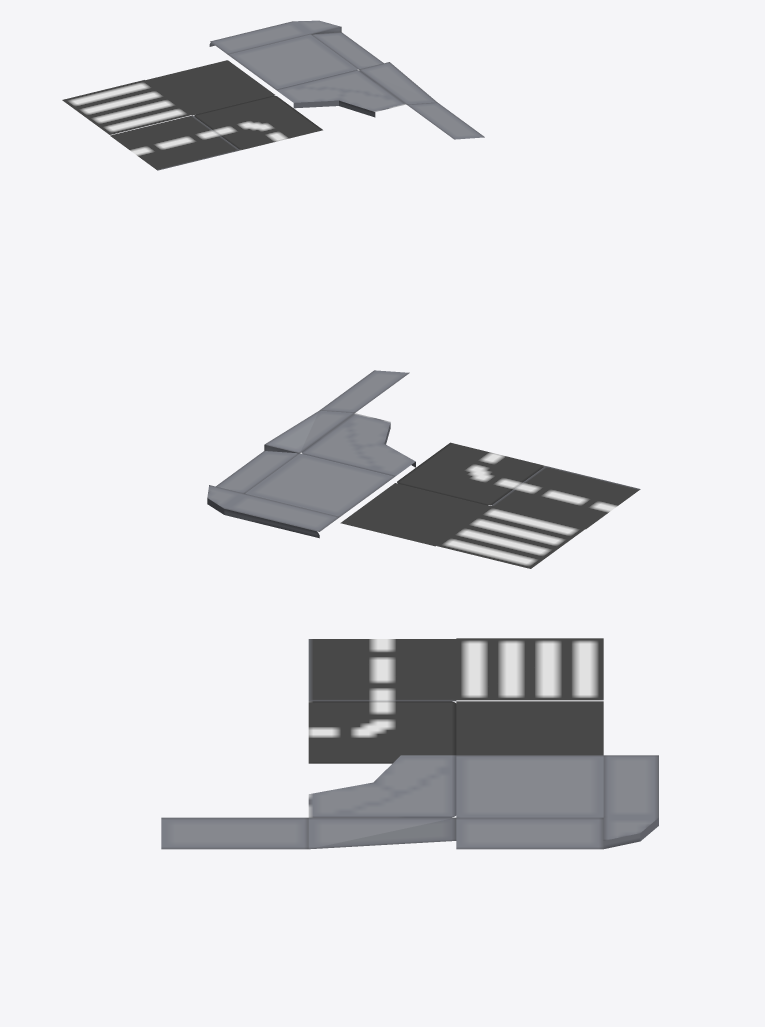
File: Street_Tiles.fbx
3 renders of one model, top to bottom at view 1: azimuth 30°, elevation 25°; view 2: azimuth 150°, elevation 25°; view 3: azimuth 270°, elevation 25°, orthographic. The views are drawn at different scales.
Parts seen in each view (by area): view 1: Sidewalk, Crosswalk, Road.Line, Road.Line.Corner, Road, Curb.Corner.Inner, Curb, Slope.Transition, Curb.Slope.Single, Curb.Slope, Curb.Corner.Outer; view 2: Crosswalk, Sidewalk, Road.Line.Corner, Road, Road.Line, Curb.Corner.Inner, Curb, Slope.Transition, Curb.Slope.Single, Curb.Slope, Curb.Corner.Outer; view 3: Road.Line, Crosswalk, Sidewalk, Road.Line.Corner, Road, Curb.Corner.Inner, Curb.Slope, Curb.Slope.Single, Slope.Transition, Curb, Curb.Corner.Outer.
Boxes of the visible parts, x1,y1,x2,y2 form: Sidewalk: (228, 34, 358, 89); Crosswalk: (62, 80, 192, 134); Road.Line: (110, 115, 240, 170); Road.Line.Corner: (194, 95, 322, 150); Road: (145, 60, 275, 115); Curb.Corner.Inner: (276, 70, 405, 117); Curb: (209, 21, 310, 54); Slope.Transition: (359, 62, 436, 104); Curb.Slope.Single: (311, 27, 383, 69); Curb.Slope: (407, 102, 484, 139); Curb.Corner.Outer: (293, 20, 341, 34); Crosswalk: (436, 505, 585, 568); Sidewalk: (245, 453, 394, 516); Road.Line.Corner: (397, 442, 544, 505); Road: (340, 483, 489, 546); Road.Line: (491, 466, 640, 529); Curb.Corner.Inner: (301, 413, 415, 476); Curb: (224, 493, 339, 538); Slope.Transition: (264, 410, 354, 453); Curb.Slope.Single: (216, 445, 299, 493); Curb.Slope: (319, 370, 409, 412); Curb.Corner.Outer: (207, 485, 244, 514); Road.Line: (308, 639, 456, 701); Crosswalk: (456, 638, 603, 700); Sidewalk: (456, 755, 603, 817); Road.Line.Corner: (308, 701, 456, 763); Road: (456, 701, 603, 755); Curb.Corner.Inner: (308, 755, 456, 817); Curb.Slope: (161, 817, 308, 849); Curb.Slope.Single: (456, 817, 603, 849); Slope.Transition: (308, 817, 456, 849); Curb: (603, 755, 658, 817); Curb.Corner.Outer: (603, 817, 658, 848).
Size of the model in its own units: 600 by 500 by 6.25.
